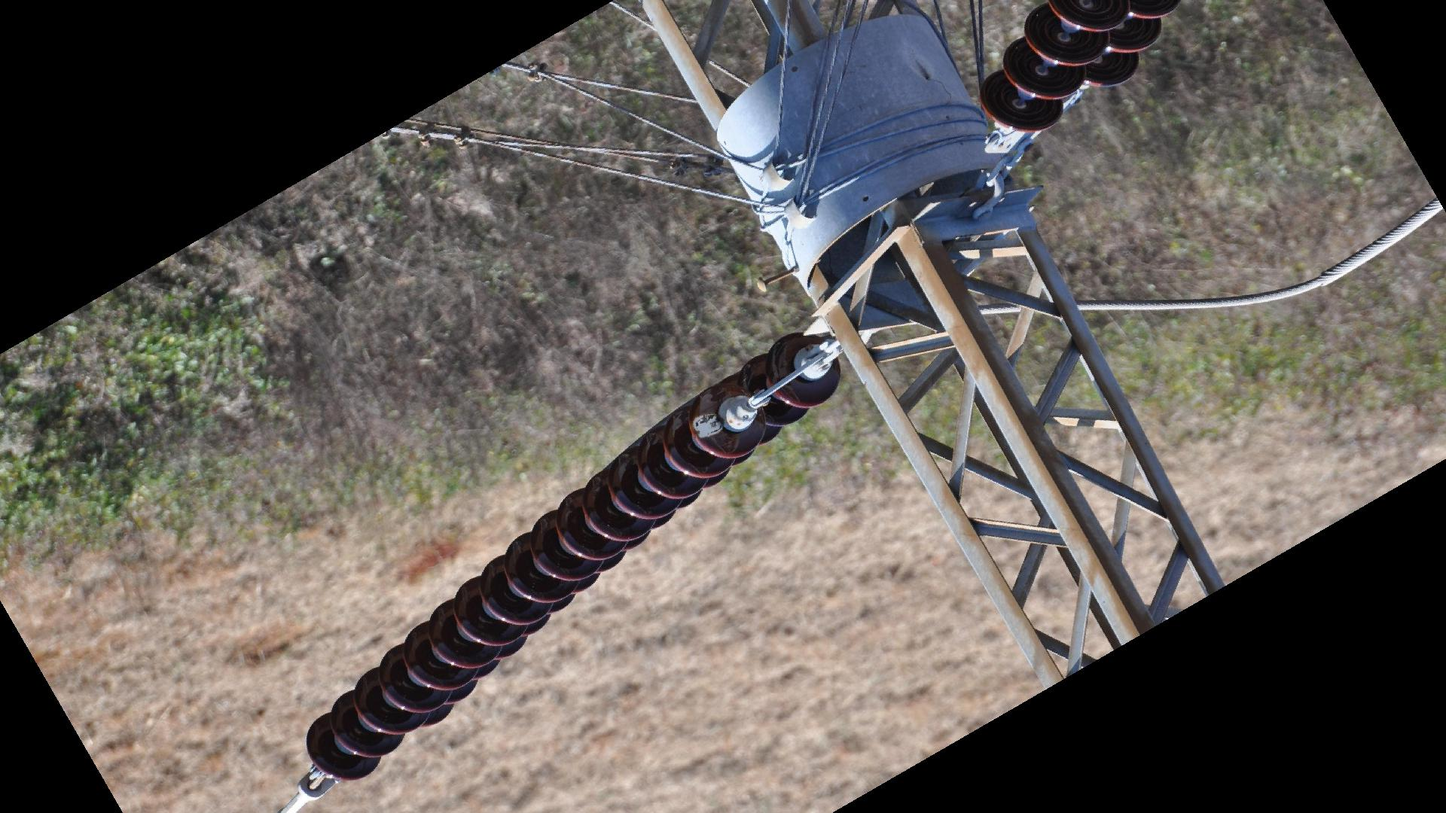insulator: (303, 329, 845, 784), (977, 1, 1182, 136)
insulator_flashover: (691, 410, 725, 441)
